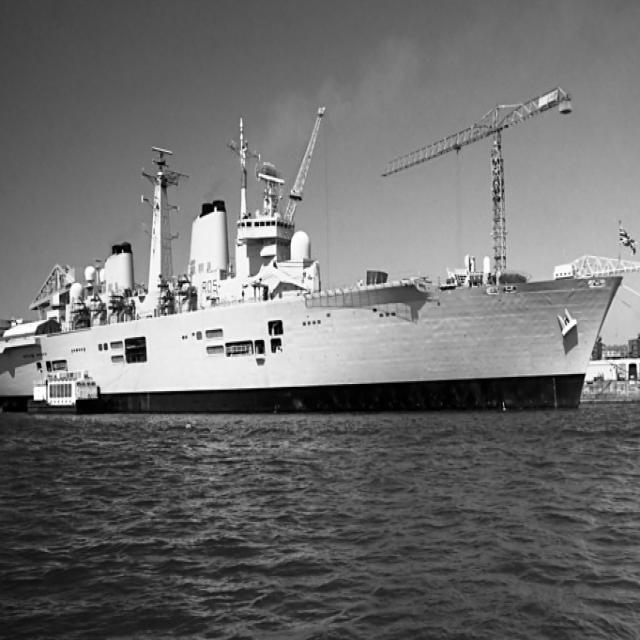Portanaves: (1, 102, 630, 418)
